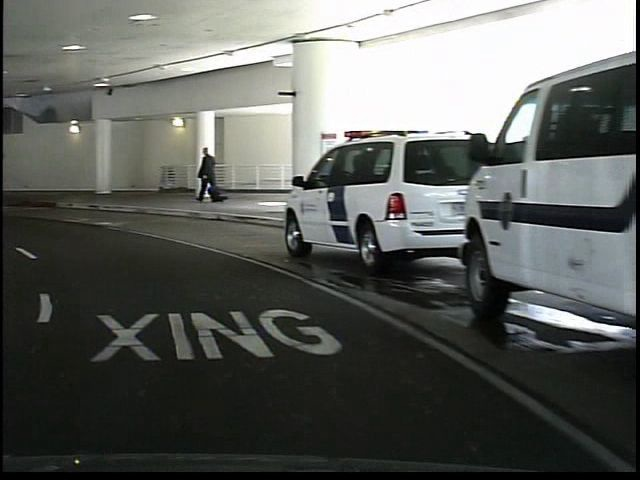person: (192, 144, 217, 204)
